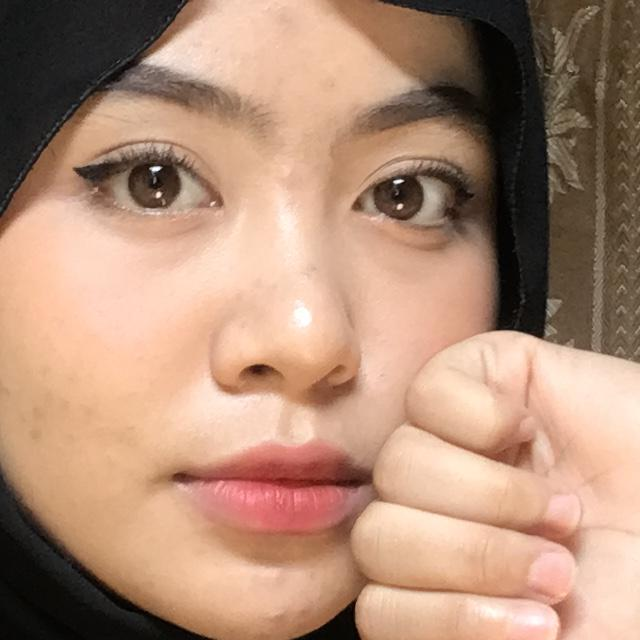sedih: (130, 186, 640, 640)
